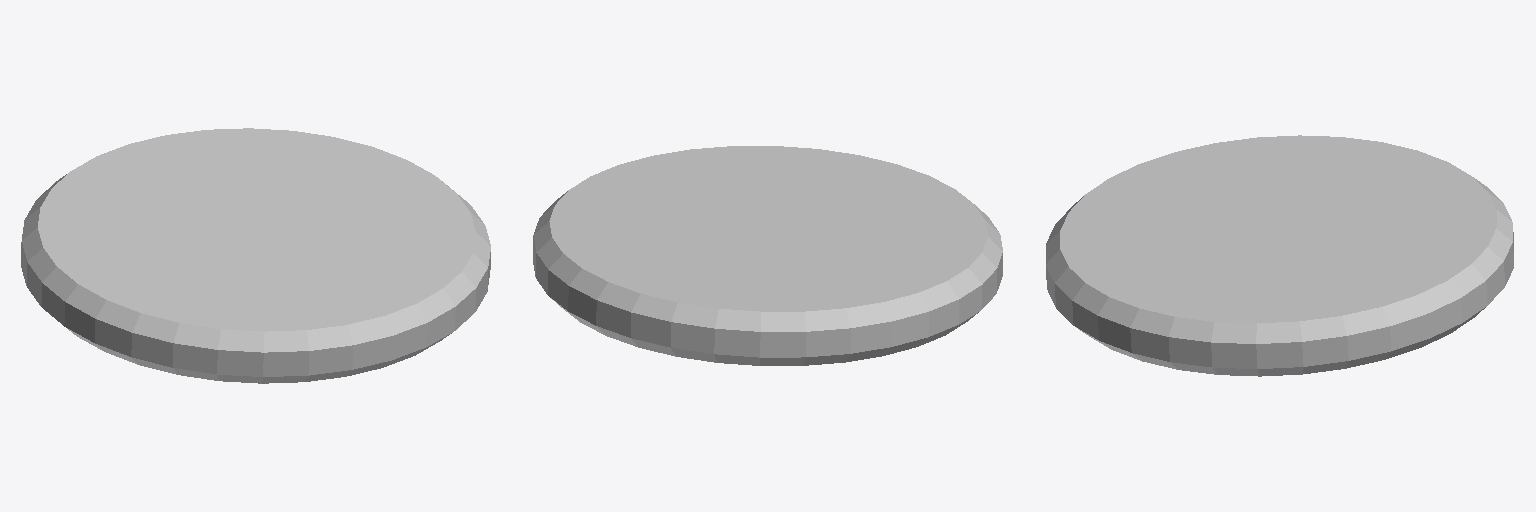
File: burger_meat_2.obj
The picture shows the model from 3 angles: view 1: azimuth 30°, elevation 25°; view 2: azimuth 150°, elevation 25°; view 3: azimuth 270°, elevation 25°; orthographic projection.
Visible parts, largest first — view 1: Cylinder.004; view 2: Cylinder.004; view 3: Cylinder.004.
Boxes of the visible parts, x1=… form: Cylinder.004: x1=21, y1=128, x2=490, y2=383; Cylinder.004: x1=533, y1=146, x2=1002, y2=365; Cylinder.004: x1=1046, y1=135, x2=1513, y2=376.
Size of the model in its own units: 1.99 by 0.3497 by 1.99.